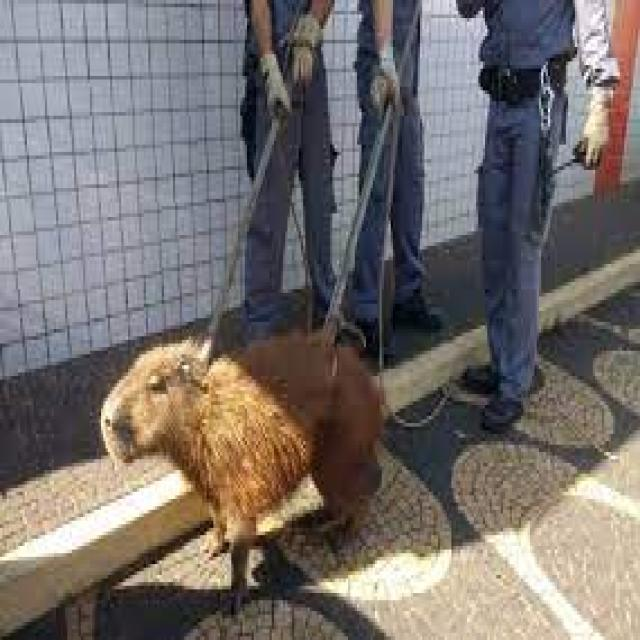capy: (98, 339, 382, 619)
